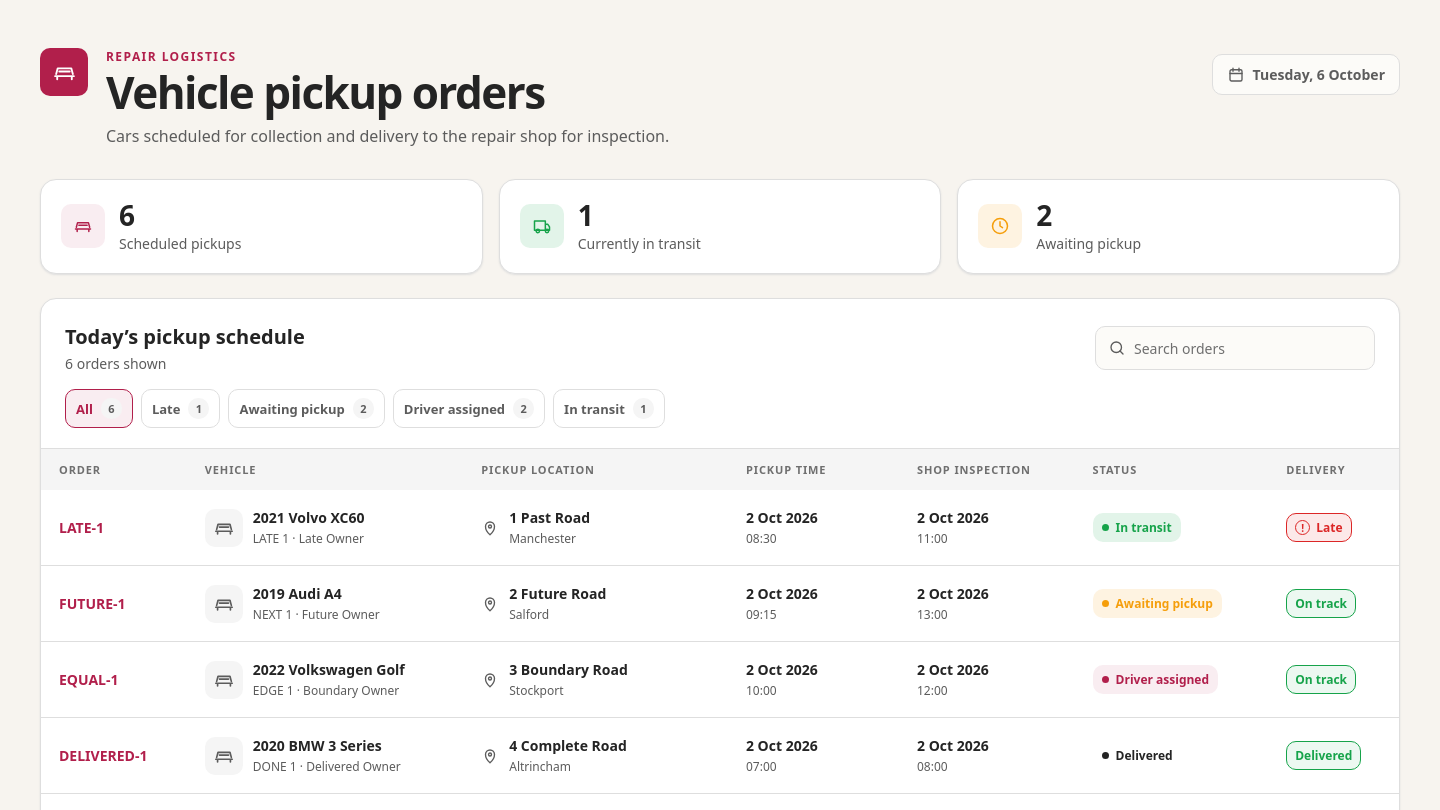
Test: Late delivery filter › selects Late as a peer filter and excludes other classifications
Click the button "Late 1".
click(181, 409)  # box [141, 389, 220, 428]
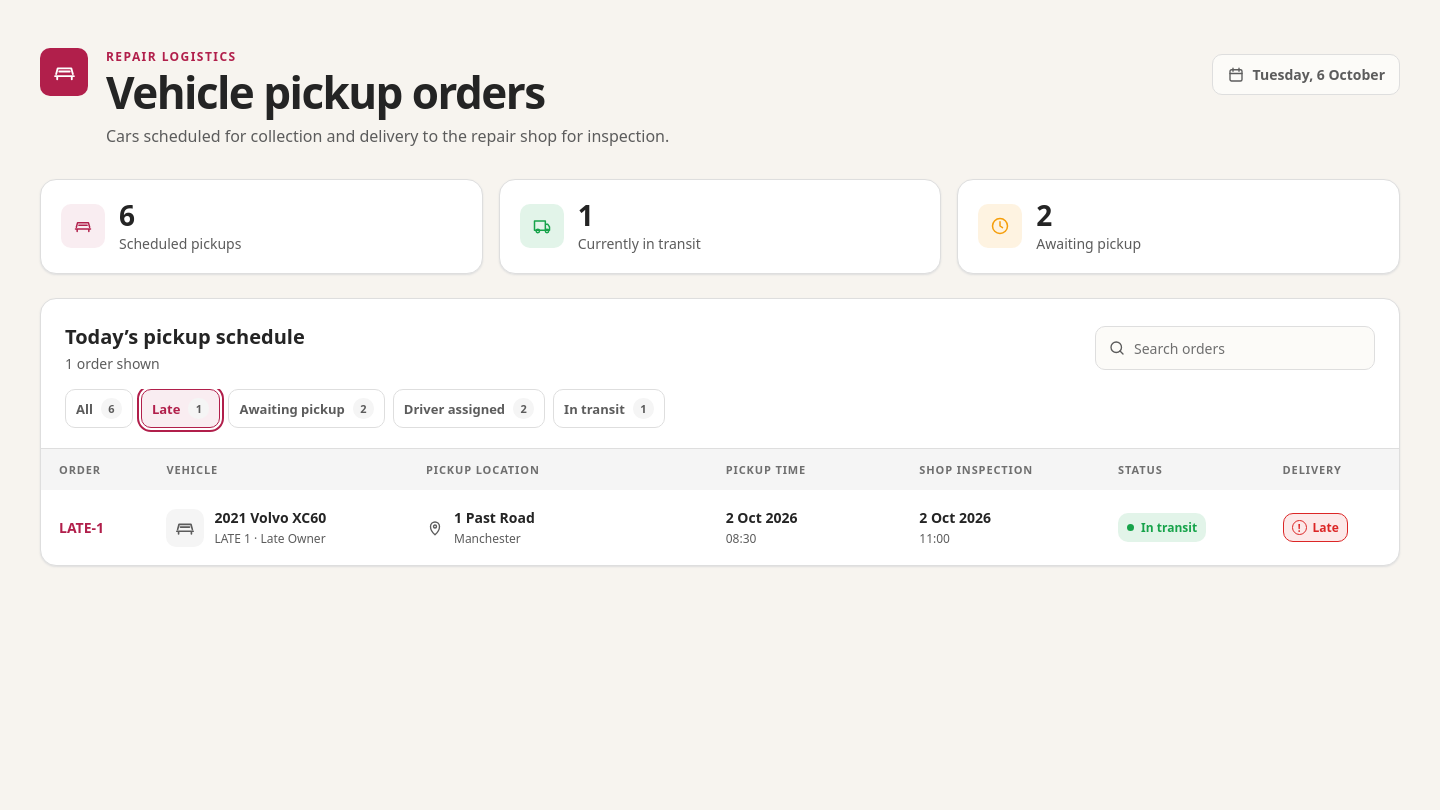
Check: the text "FUTURE-1" is gone
Check: the text "EQUAL-1" is gone
Check: the text "DELIVERED-1" is gone
